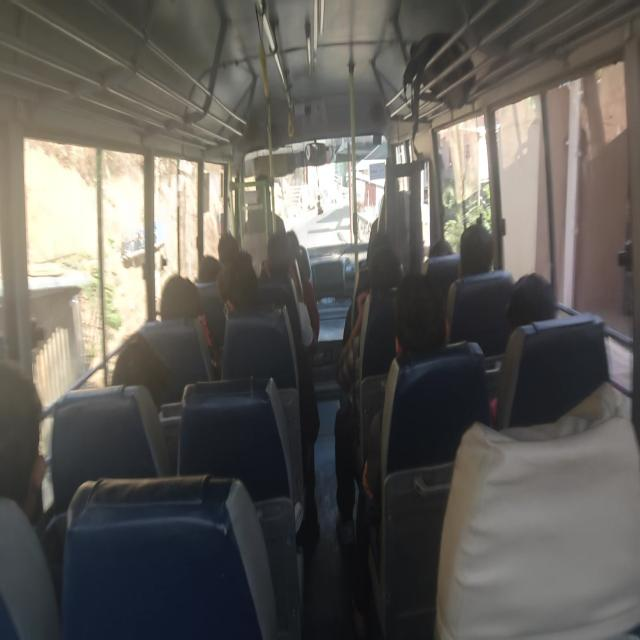person: (216, 249, 312, 537), (334, 244, 404, 544), (361, 272, 449, 500), (258, 229, 320, 536), (0, 358, 63, 638), (112, 272, 213, 409), (489, 271, 556, 423), (0, 358, 46, 523), (259, 230, 314, 351), (159, 273, 218, 376), (446, 222, 494, 340), (286, 229, 320, 346), (506, 272, 556, 332), (217, 250, 259, 319), (217, 232, 240, 266)
